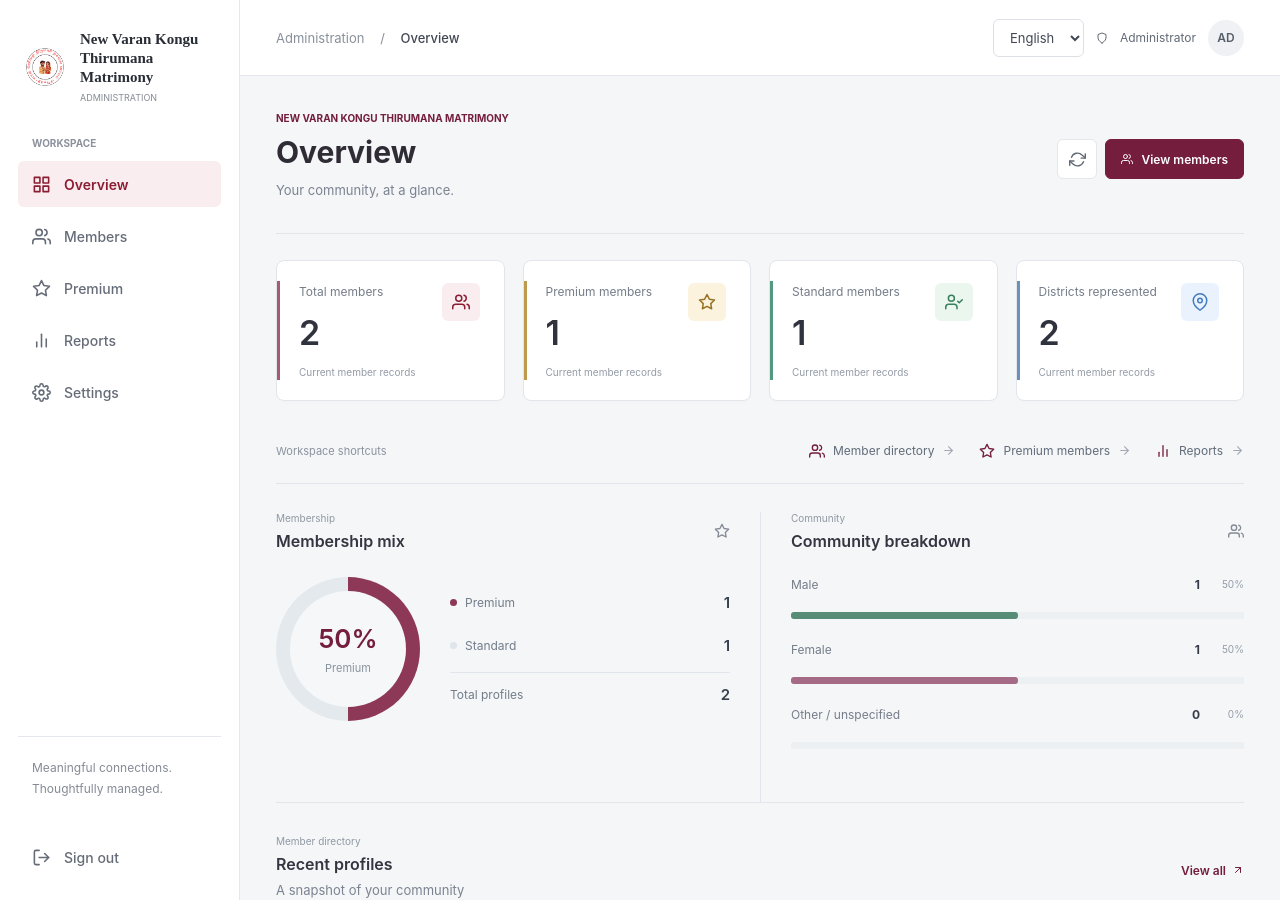
it: overview uses live member totals, latest profiles, and refresh without including administrators
Expected: the picture named "Premium: 50%" is shown, [276,577,420,721]
Expected: the text "2" below "Total members" is shown, [299,312,320,353]
Click the button named "Refresh members" at (1078, 159), box [1058,139,1098,179]
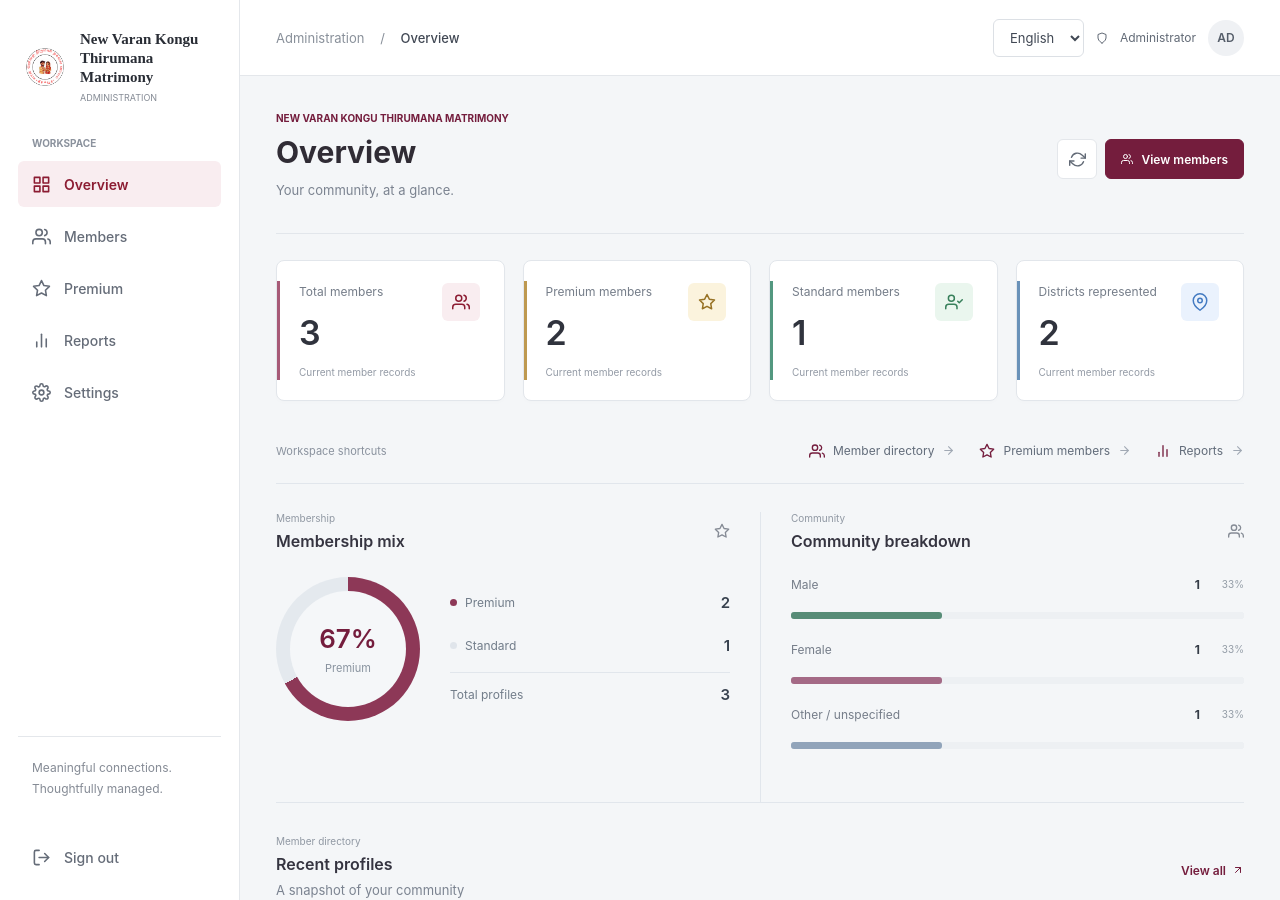
Result: the picture named "Premium: 67%" is shown at [276,577,420,721]
